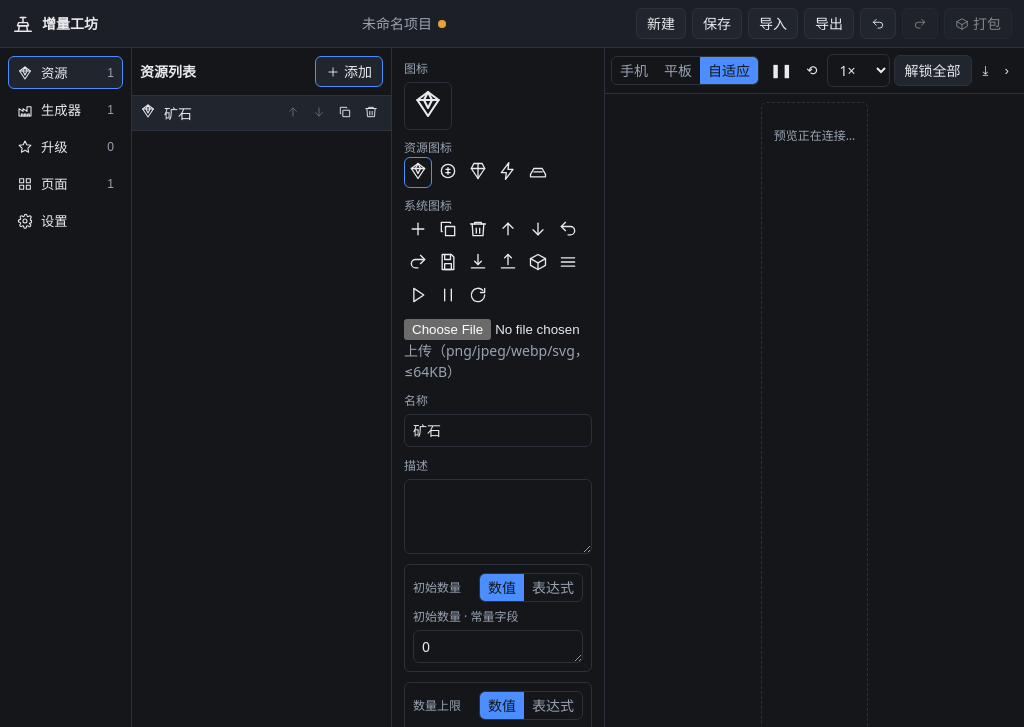
Test: 表达式字段（7.6 NumExprField、5.8、17.1） › 价格表达式使用 rand() → 编译期 E_RAND_DISABLED（PRD 补充 1、17.1）
The image size is (1024, 727).
What coordinates should you click on to do the following:
click the button with test id "nav-generators"
I would click on:
 (66, 110)
Its box is [8,93,123,126].
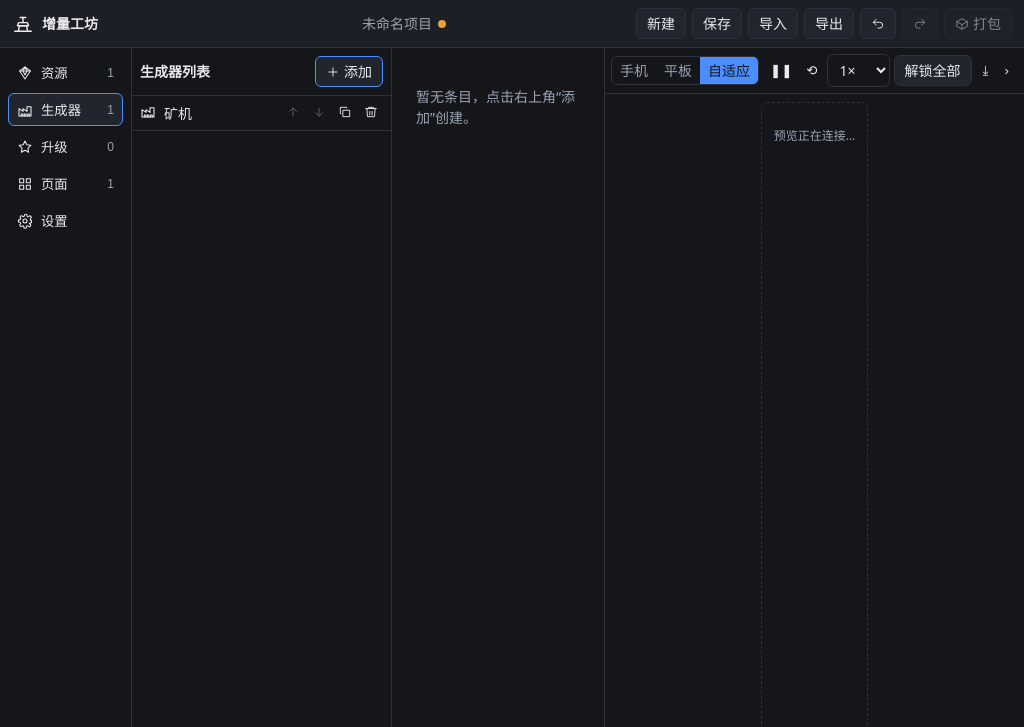
What coordinates should you click on to do the following:
click the option with test id "entry-g1"
I would click on:
 (262, 114)
Its box is [132,96,391,131].
(page scrolled)
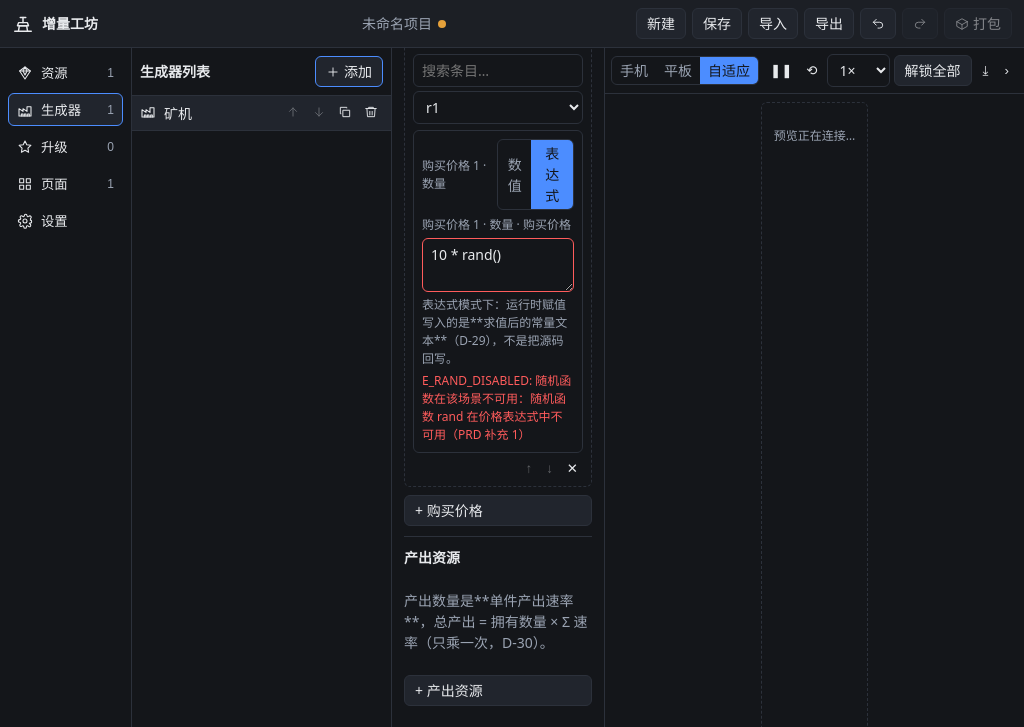
Expected: the text "E_RAND_DISABLED: 随机函数在该场景不可用：随机函数 rand 在价格表达式中不可用（PRD 补充 1）" is shown, [422,372,574,444]
